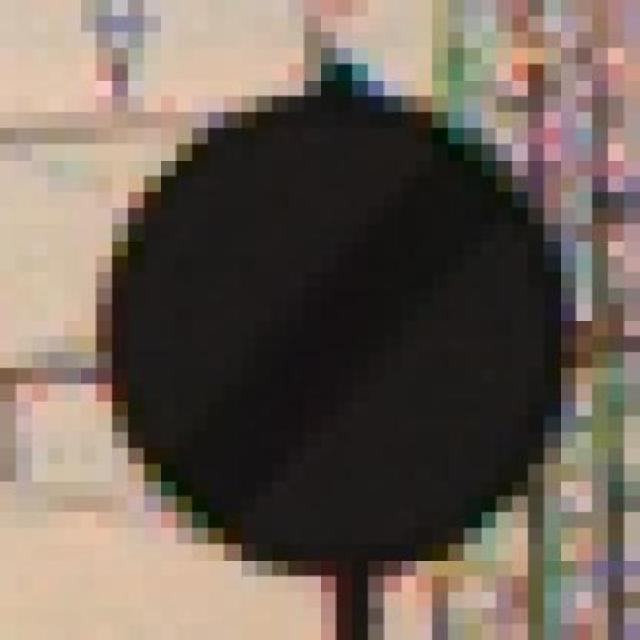End of all speed and passing limits: (99, 48, 579, 592)
